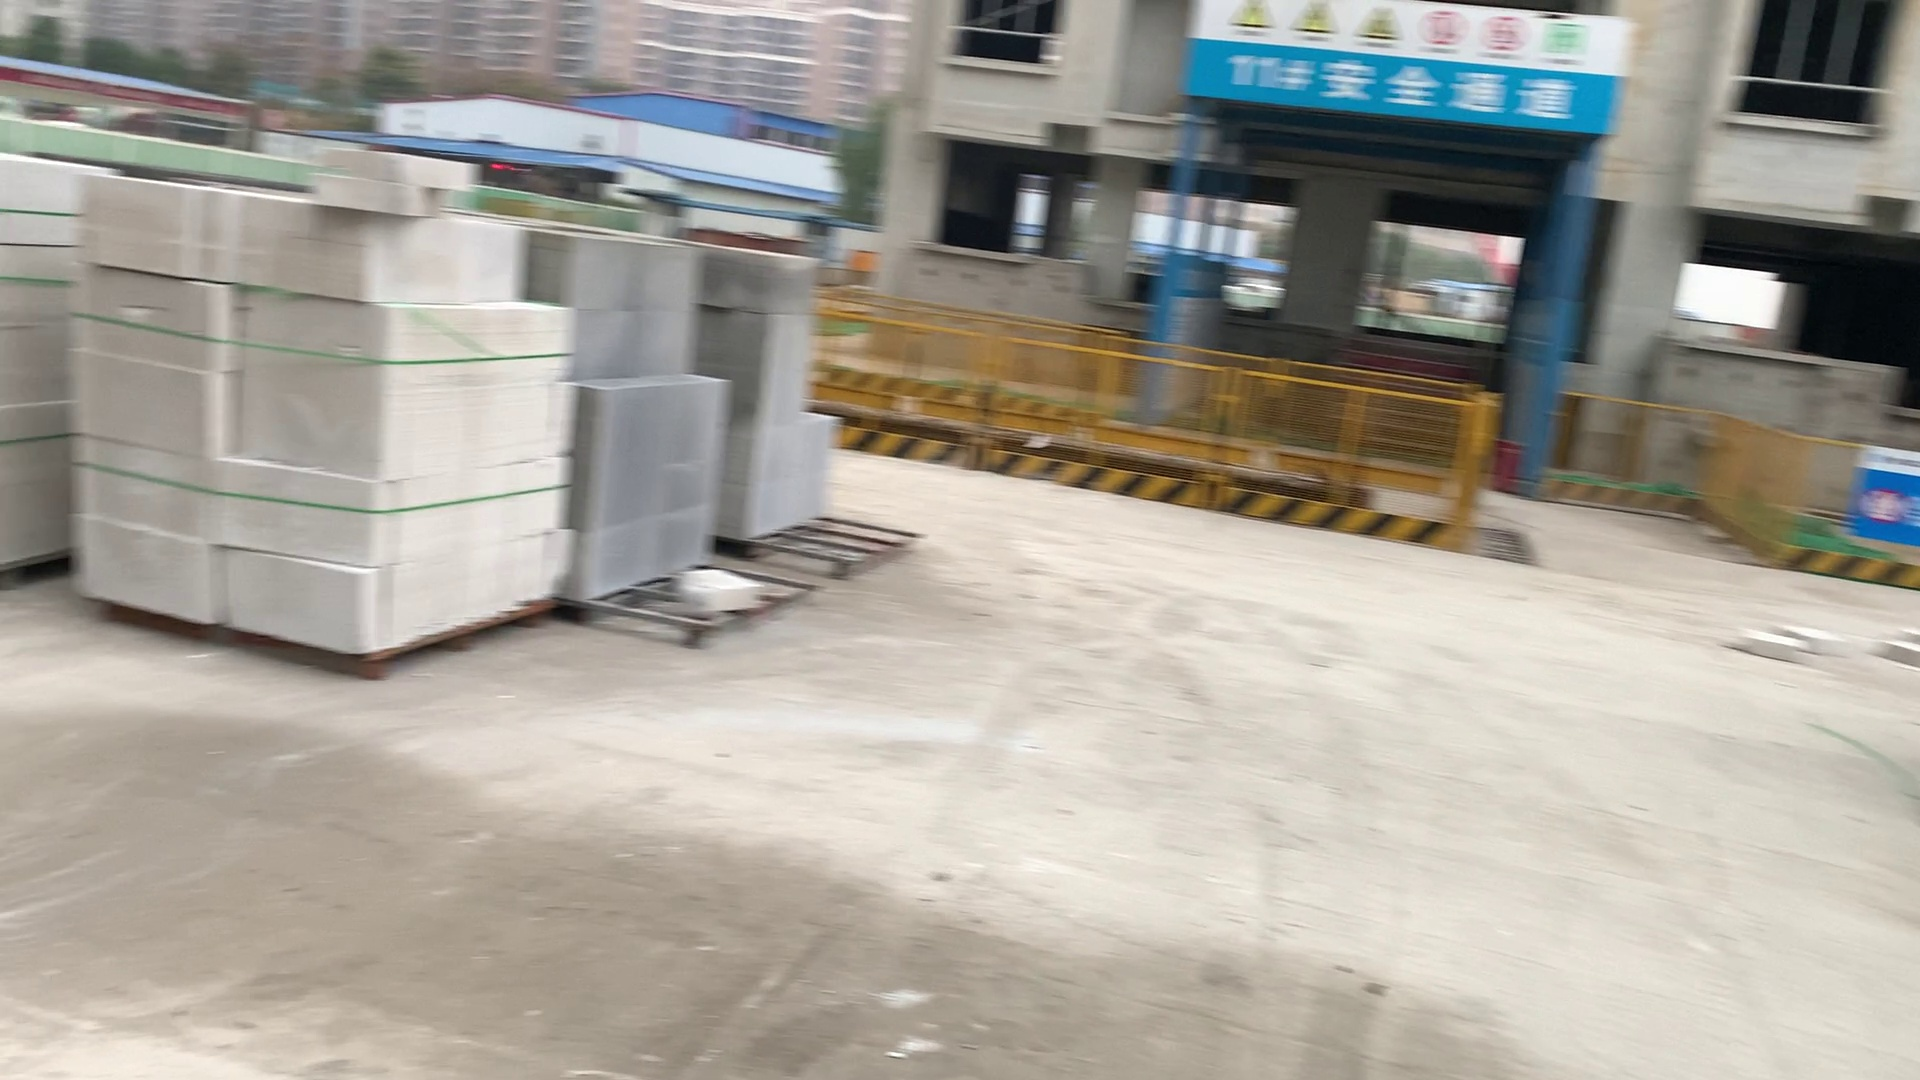brickwork: (87, 186, 574, 649), (539, 224, 715, 620), (3, 150, 123, 556), (716, 241, 845, 560)
